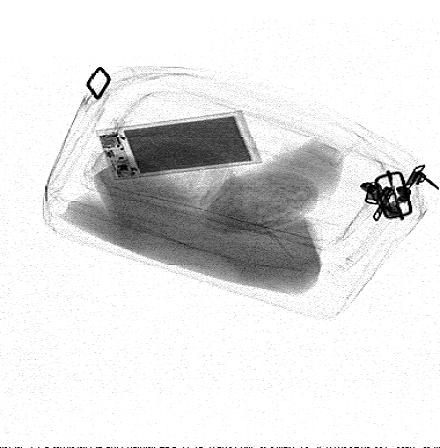Powerbank: (93, 109, 262, 181)
